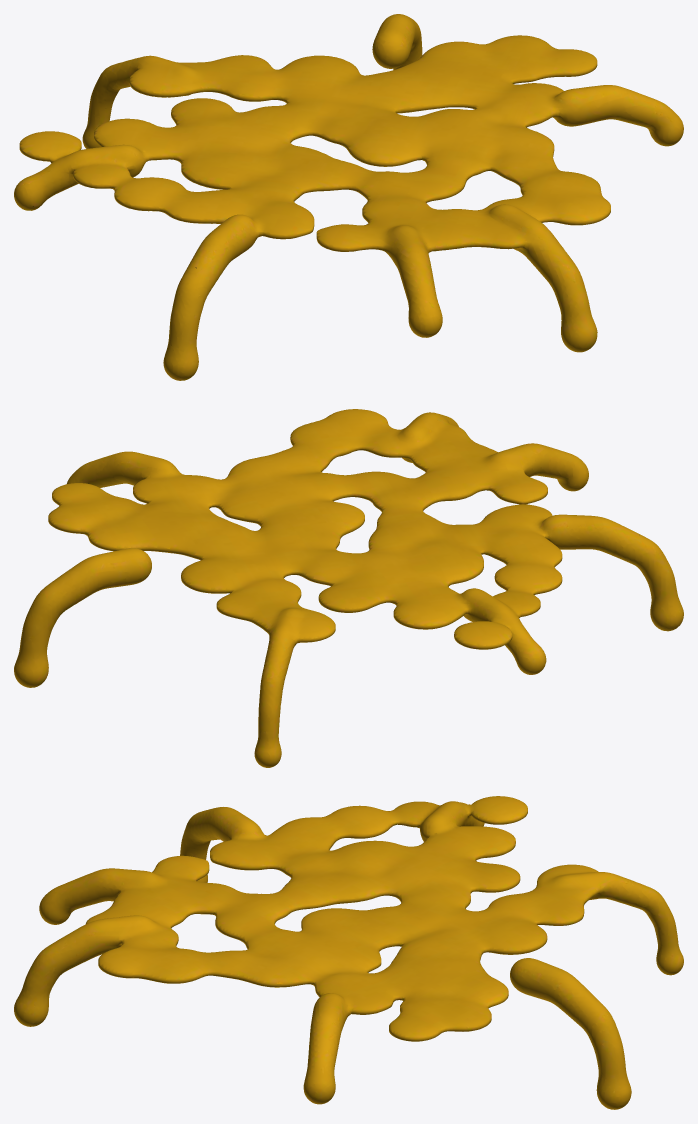
File: sauce_mustard.glb
3 views of the same model, one above another, from view 1: azimuth 30°, elevation 25°; view 2: azimuth 150°, elevation 25°; view 3: azimuth 270°, elevation 25° (orthographic). The views are drawn at different scales.
Visible parts, largest first — view 1: sauce_mustard_web; view 2: sauce_mustard_web; view 3: sauce_mustard_web.
Part boxes in pixels (box(x1,y1,x2,y2)): sauce_mustard_web: box(14, 14, 683, 380); sauce_mustard_web: box(14, 409, 683, 767); sauce_mustard_web: box(14, 796, 683, 1109).
Size of the model in its own units: 0.1139 by 0.0237 by 0.1197.
Materials: 1 (1 with a texture image).
